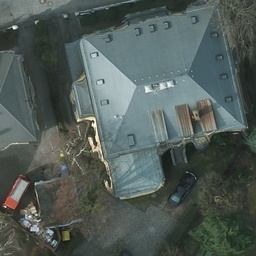car: (2, 172, 28, 213), (168, 170, 196, 208)
